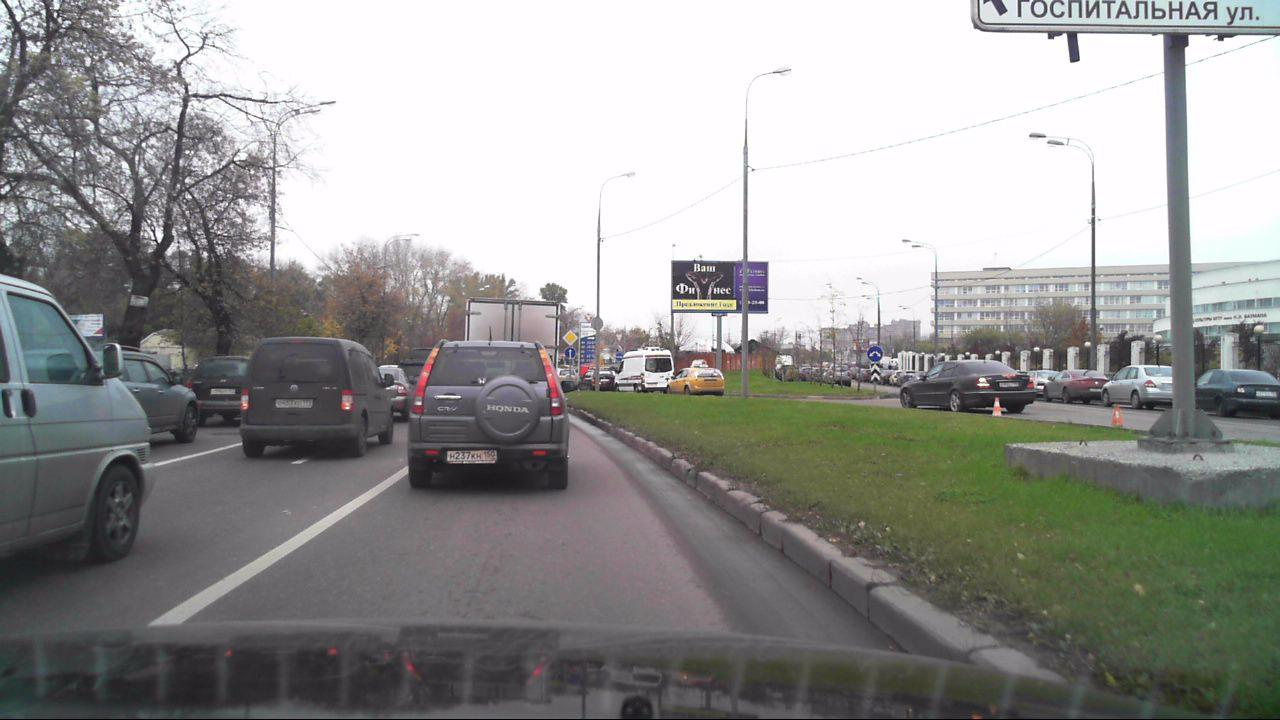1_10: (615, 344, 624, 352)
2_1: (561, 328, 578, 346), (614, 332, 625, 343)
4_1_1: (565, 347, 577, 359)
4_2_1: (615, 353, 625, 361)
4_2_3: (866, 344, 883, 362)
